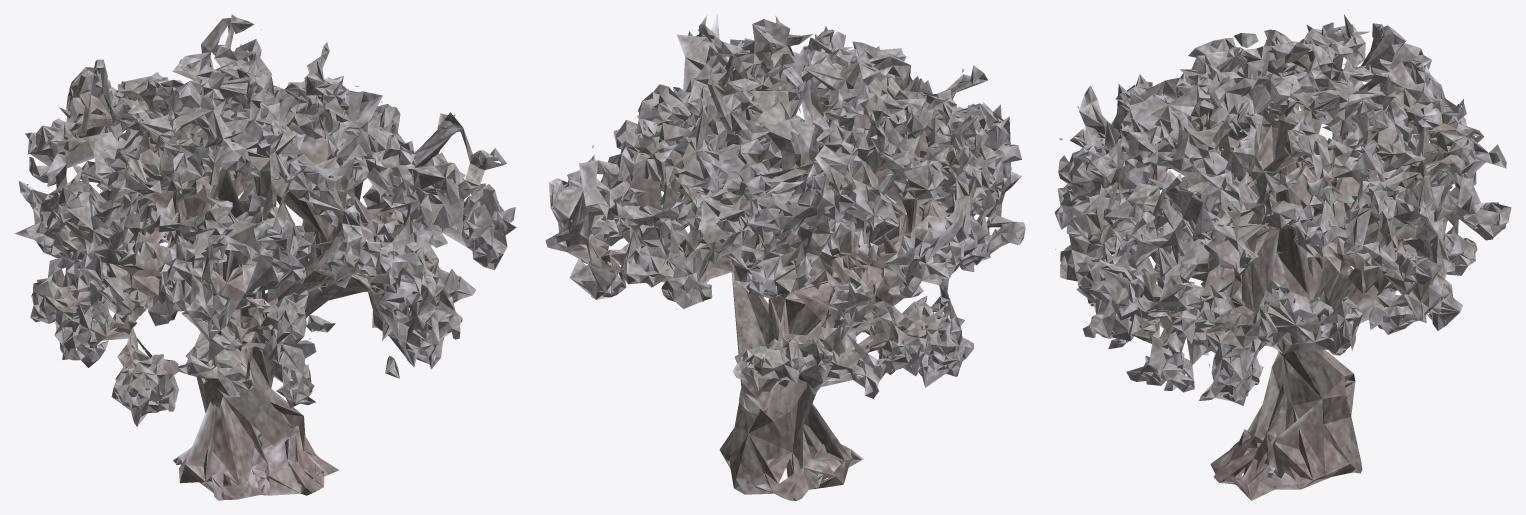
Rendered from it_olive.obj.
3 renders of one model, left to right at view 1: azimuth 30°, elevation 25°; view 2: azimuth 150°, elevation 25°; view 3: azimuth 270°, elevation 25°, orthographic. The views are drawn at different scales.
Parts seen in each view (by area): view 1: it_olive; view 2: it_olive; view 3: it_olive.
Part boxes in pixels (box(x1,y1,x2,y2)): it_olive: box(14, 14, 516, 500); it_olive: box(545, 14, 1025, 500); it_olive: box(1054, 14, 1511, 500).
Bounding box in the file's own units: 6.01 × 6 × 5.96.
Materials: 1 (1 with a texture image).
